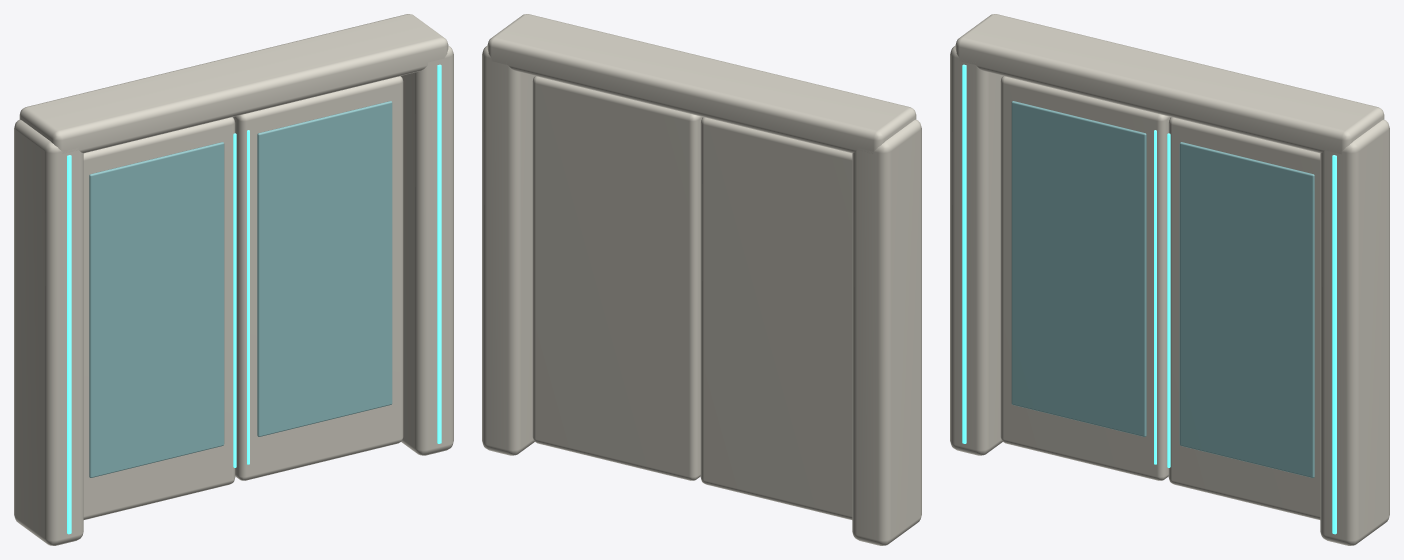
File: anta-door.glb
The picture shows the model from 3 angles, left to right: view 1: azimuth 30°, elevation 25°; view 2: azimuth 150°, elevation 25°; view 3: azimuth 330°, elevation 25°; orthographic projection.
Parts seen in each view (by area): view 1: Door inset.001, Door inset, Portal pillar, Lintel, Door leaf.001, Portal pillar.001, Door leaf, Portal cyan, Portal cyan.001, Seam light, Seam light.001; view 2: Door leaf.001, Door leaf, Portal pillar, Lintel, Portal pillar.001; view 3: Door inset, Door inset.001, Portal pillar.001, Lintel, Door leaf, Portal pillar, Door leaf.001, Portal cyan, Portal cyan.001, Seam light.001, Seam light.
Part boxes in pixels (box(x1,y1,x2,y2)): Door inset.001: box(257, 101, 392, 436); Door inset: box(89, 142, 224, 477); Portal pillar: box(14, 119, 83, 545); Lintel: box(19, 14, 448, 153); Door leaf.001: box(232, 76, 403, 480); Portal pillar.001: box(401, 45, 453, 455); Door leaf: box(83, 117, 235, 519); Portal cyan: box(67, 155, 71, 534); Portal cyan.001: box(437, 64, 441, 443); Seam light: box(233, 133, 236, 467); Seam light.001: box(247, 130, 249, 464); Door leaf.001: box(532, 76, 703, 480); Door leaf: box(700, 117, 852, 519); Portal pillar: box(852, 119, 921, 545); Lintel: box(487, 14, 916, 153); Portal pillar.001: box(482, 45, 534, 455); Door inset: box(1011, 101, 1146, 436); Door inset.001: box(1179, 142, 1314, 477); Portal pillar.001: box(1320, 119, 1389, 545); Lintel: box(955, 14, 1384, 154); Door leaf: box(1000, 76, 1171, 480); Portal pillar: box(950, 45, 1002, 455); Door leaf.001: box(1168, 117, 1320, 519); Portal cyan: box(962, 64, 966, 443); Portal cyan.001: box(1332, 155, 1336, 534); Seam light.001: box(1167, 133, 1170, 467); Seam light: box(1154, 130, 1156, 464).
Size of the model in its own units: 4.85 by 4.71 by 0.835.
